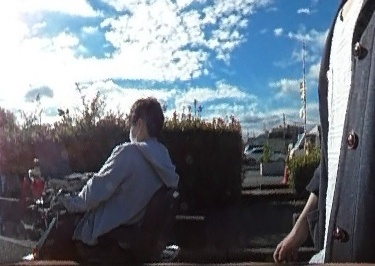person: (48, 91, 186, 253)
